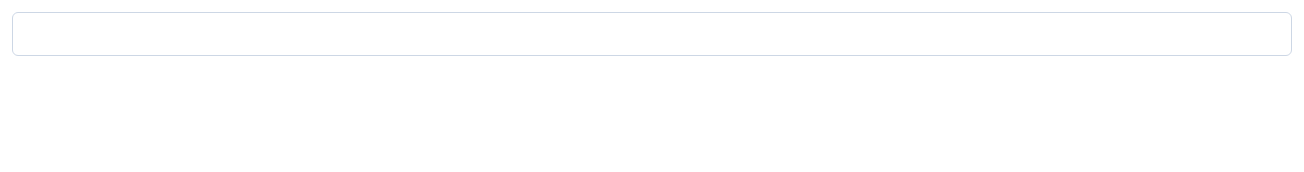
Scenario: Input › Interactions › handles paste events
Step 1. Click the field → (652, 34), box [12,12,1292,56]
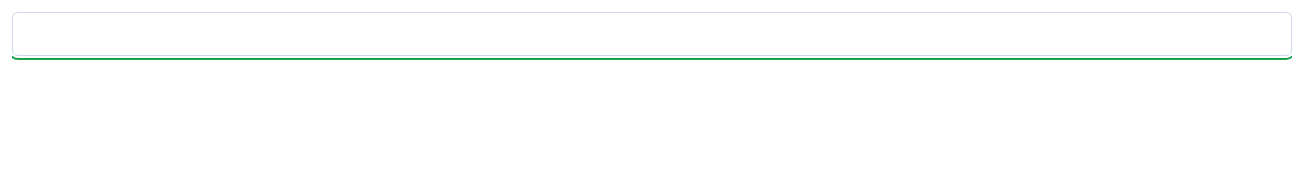
Step 2. Type keys "Pasted content"
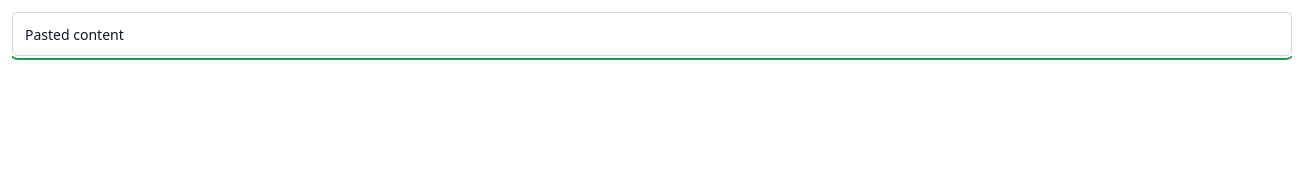
Expected: the field holds "Pasted content", [12,12,1292,56]
